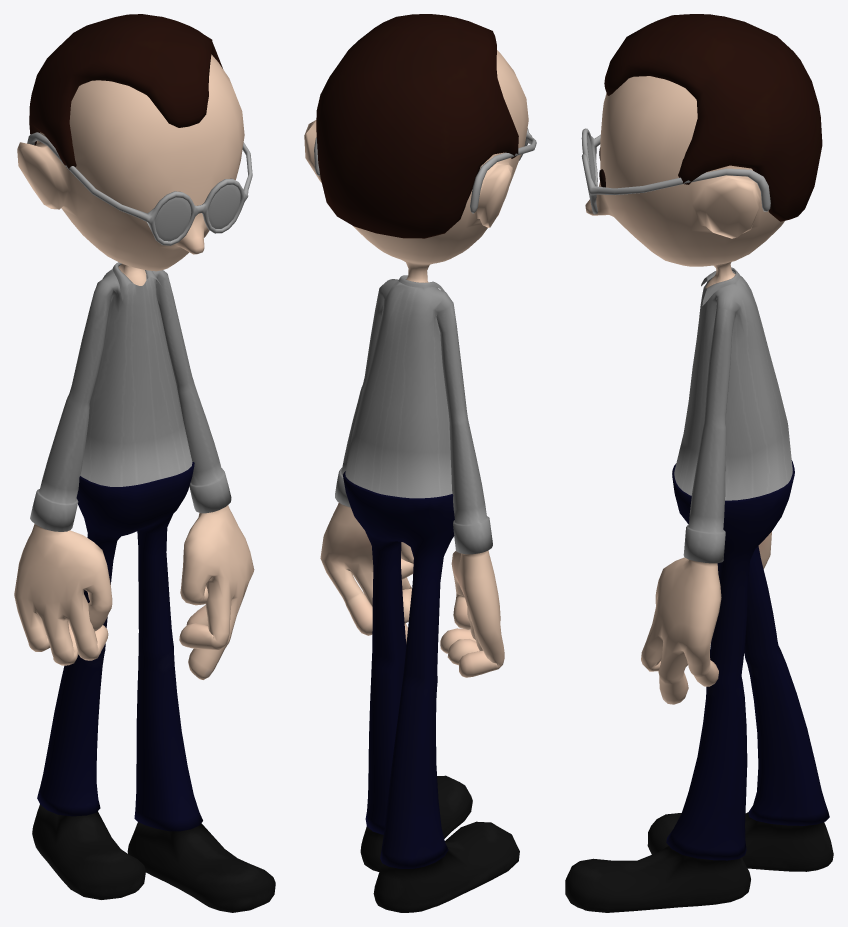
The model's file is Animation_Cartoon_Starter_000036.obj.
The picture shows the model from 3 angles, left to right: view 1: azimuth 30°, elevation 25°; view 2: azimuth 150°, elevation 25°; view 3: azimuth 270°, elevation 25°; orthographic projection.
Visible parts, largest first — view 1: bm_09; view 2: bm_09; view 3: bm_09.
Boxes of the visible parts, <box> form: bm_09: <box>14,14,275,912</box>; bm_09: <box>304,14,536,912</box>; bm_09: <box>565,14,833,912</box>.
Size of the model in its own units: 0.3925 by 1.51 by 0.4307.
Materials: 3 (1 with a texture image).
